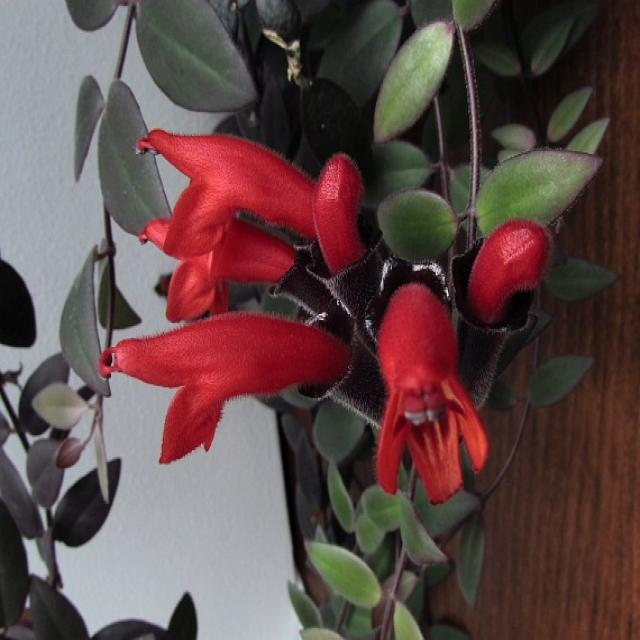Lipstick-Plant: (91, 84, 570, 516)
